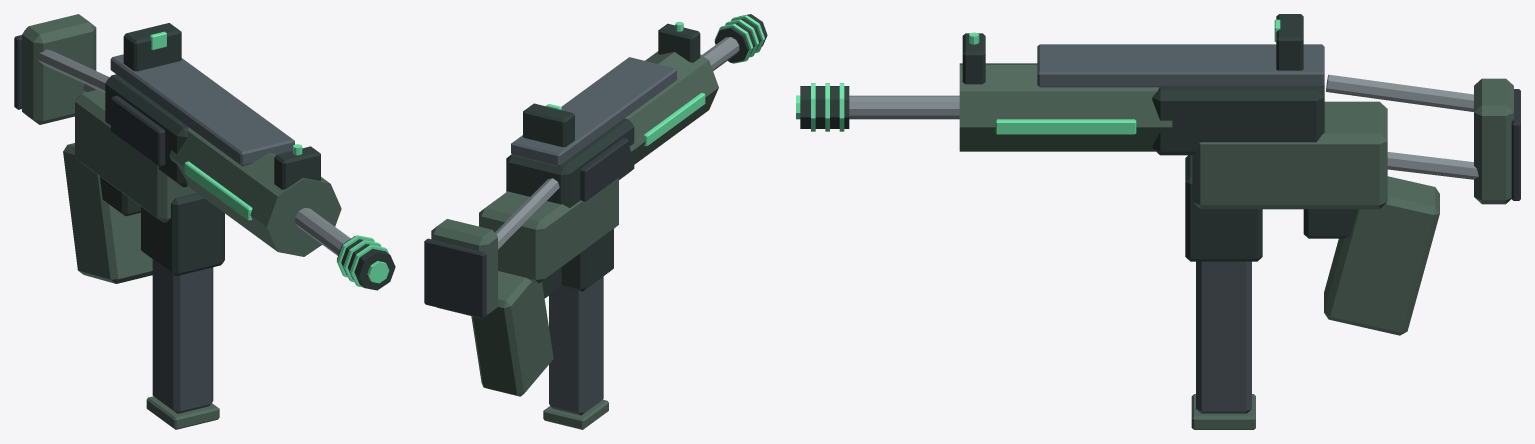
Rendered from FTF_Weapon_FutureMPX_BlackGreen.glb.
The picture shows the model from 3 angles, left to right: view 1: azimuth 30°, elevation 25°; view 2: azimuth 150°, elevation 25°; view 3: azimuth 270°, elevation 25°; orthographic projection. The views are drawn at different scales.
Visible parts, largest first — view 1: StaticVisual; view 2: StaticVisual; view 3: StaticVisual.
Part boxes in pixels (left/top/right/bottom): StaticVisual: left=14, top=14, right=395, bottom=429; StaticVisual: left=424, top=14, right=767, bottom=429; StaticVisual: left=796, top=14, right=1520, bottom=429.
Size of the model in its own units: 0.178 by 0.76 by 1.26.
